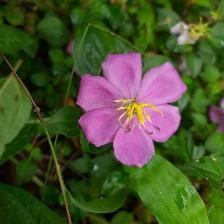malabar melastome: (76, 52, 190, 168)
